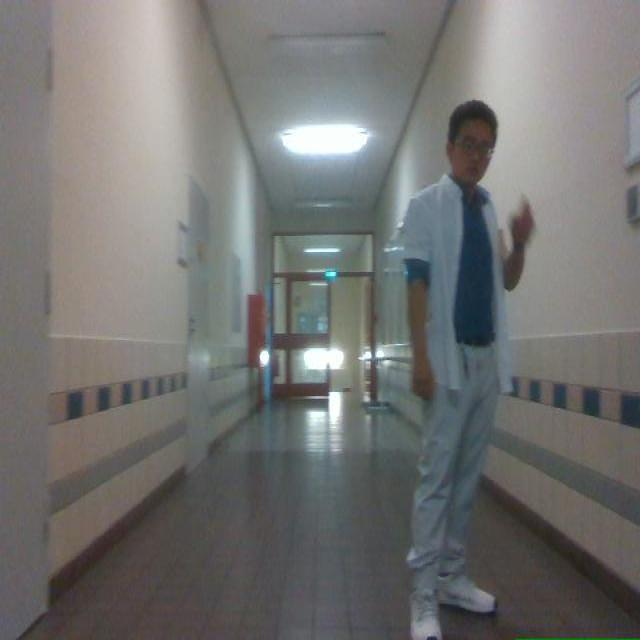humans: (403, 100, 533, 639)
